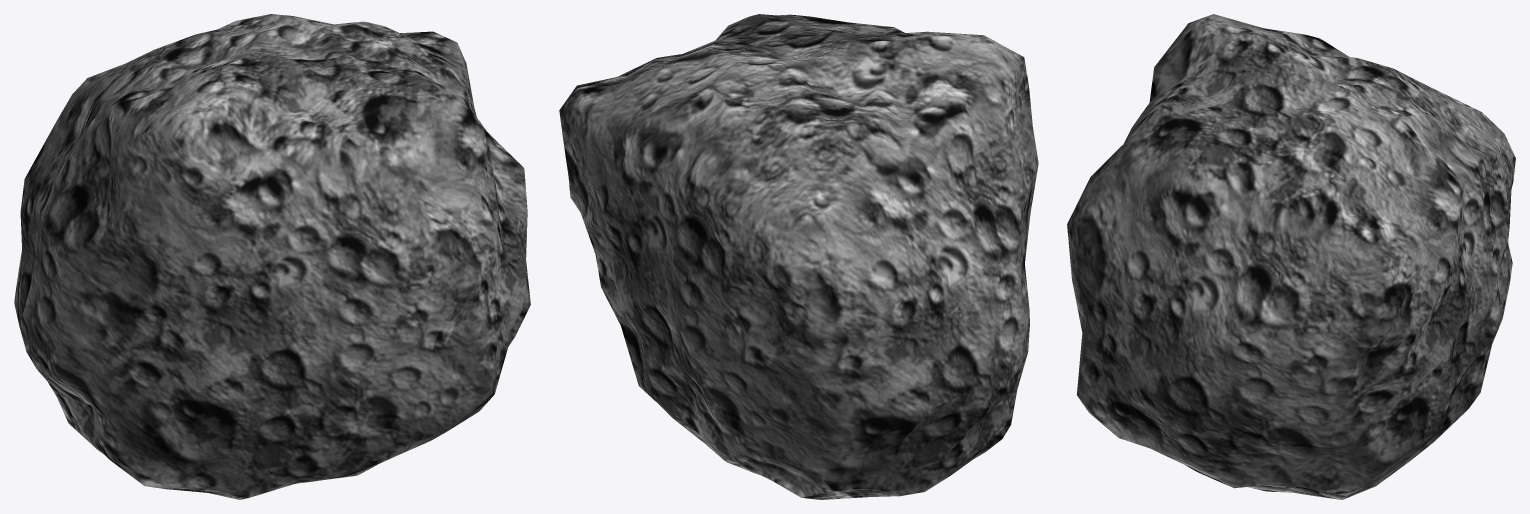
The model's file is asteroid.glb.
The picture shows the model from 3 angles, left to right: view 1: azimuth 30°, elevation 25°; view 2: azimuth 150°, elevation 25°; view 3: azimuth 270°, elevation 25°; orthographic projection. The views are drawn at different scales.
Parts seen in each view (by area): view 1: LowPoly; view 2: LowPoly; view 3: LowPoly.
Boxes of the visible parts, <box> form: LowPoly: <box>14,14,530,499</box>; LowPoly: <box>559,14,1038,499</box>; LowPoly: <box>1067,14,1515,499</box>.
Size of the model in its own units: 4.25 by 3.94 by 3.95.
1 material, 1 textured.
